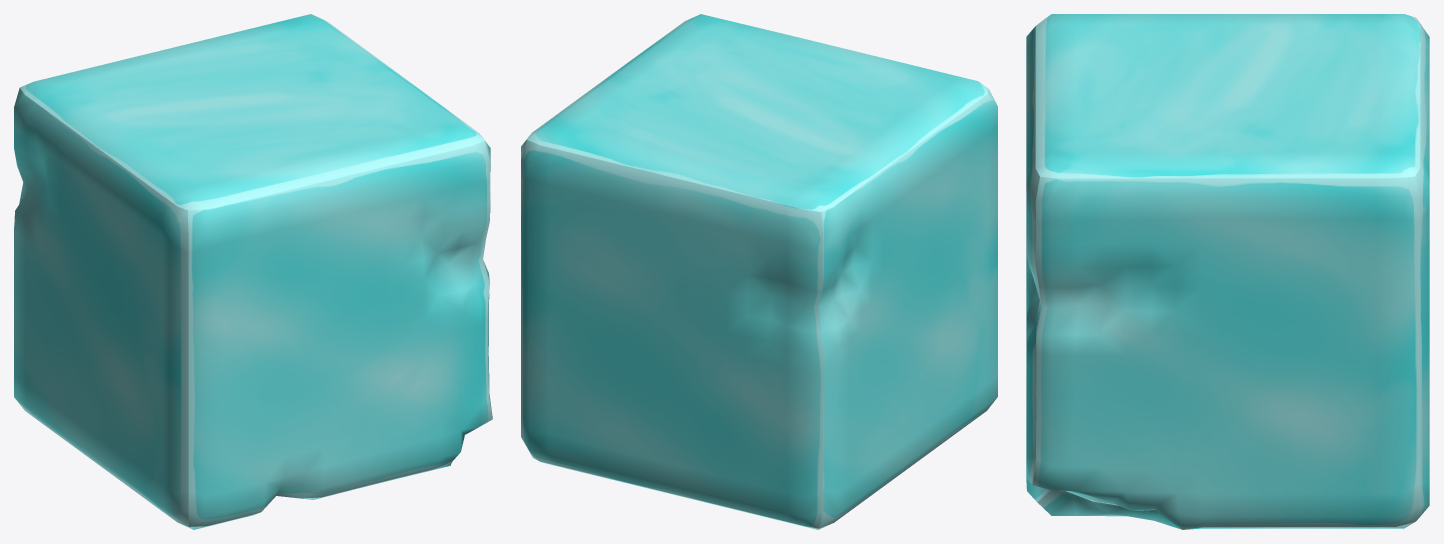
File: IceCube 1.fbx
3 views of the same model, side by side, from view 1: azimuth 30°, elevation 25°; view 2: azimuth 150°, elevation 25°; view 3: azimuth 270°, elevation 25° (orthographic). The views are drawn at different scales.
Parts seen in each view (by area): view 1: IceCube; view 2: IceCube; view 3: IceCube.
Part boxes in pixels (x1,y1,x2,y2): IceCube: (14,14,492,529); IceCube: (521,14,997,529); IceCube: (1026,14,1429,529).
Bounding box in the file's own units: 0.9703 × 0.9703 × 0.9703.
Materials: 1 (1 with a texture image).
